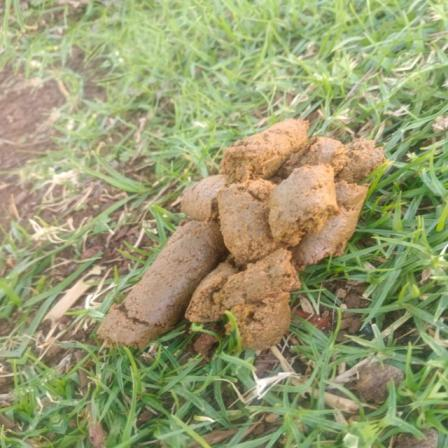dog-poop: (99, 121, 387, 362)
